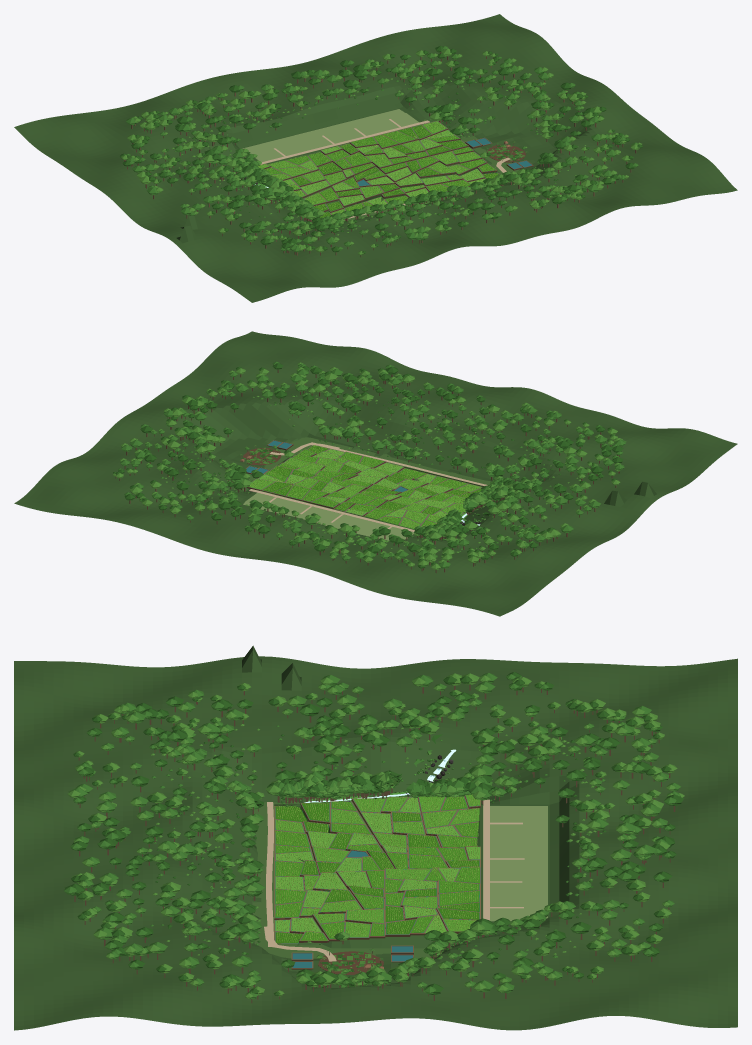
File: ENV_ModulSawah.fbx
3 views of the same model, one above another, from view 1: azimuth 30°, elevation 25°; view 2: azimuth 150°, elevation 25°; view 3: azimuth 270°, elevation 25° (orthographic). The views are drawn at different scales.
Visible parts, largest first — view 1: Bukit_Pinggir, Hutan_Bukit, Padi_Hamparan, Padi_Tegak, Lahan_Utara, Pematang_Petak, Tanah_Teras, Hutan_Batas, Sawah_Air_Petak, Tanah_Lingkungan, Jalur_Utara; view 2: Bukit_Pinggir, Hutan_Bukit, Padi_Hamparan, Padi_Tegak, Pematang_Petak, Lahan_Utara, Tanah_Lingkungan, Hutan_Batas; view 3: Bukit_Pinggir, Hutan_Bukit, Padi_Hamparan, Padi_Tegak, Lahan_Utara, Pematang_Petak, Hutan_Batas, Tanah_Lingkungan, Sawah_Air_Petak, Tanah_Teras, Jalur_Tanah, Jalur_Utara (+2 smaller).
Boxes of the visible parts, x1,y1,x2,y2 form: Bukit_Pinggir: (14,14,737,302); Hutan_Bukit: (120,46,642,256); Padi_Hamparan: (258,121,498,217); Padi_Tegak: (259,122,497,217); Lahan_Utara: (242,109,421,163); Pematang_Petak: (261,121,499,214); Tanah_Teras: (264,129,497,212); Hutan_Batas: (231,103,459,222); Sawah_Air_Petak: (273,121,496,214); Tanah_Lingkungan: (327,135,519,222); Jalur_Utara: (260,120,429,164); Bukit_Pinggir: (14,331,737,616); Hutan_Bukit: (113,361,626,572); Padi_Hamparan: (249,445,481,529); Padi_Tegak: (250,445,481,527); Pematang_Petak: (248,445,482,526); Lahan_Utara: (243,492,414,540); Tanah_Lingkungan: (247,437,491,490); Hutan_Batas: (225,468,504,539); Bukit_Pinggir: (14,645,737,1030); Hutan_Bukit: (64,672,684,1003); Padi_Hamparan: (275,794,480,943); Padi_Tegak: (276,794,478,942); Lahan_Utara: (483,806,547,921); Pematang_Petak: (274,795,480,943); Hutan_Batas: (265,764,494,937); Tanah_Lingkungan: (251,801,430,960); Sawah_Air_Petak: (275,797,480,943); Tanah_Teras: (274,796,480,942); Jalur_Tanah: (266,802,273,946); Jalur_Utara: (483,799,489,920).
Bounding box in the file's own units: 103200 × 9807 × 87600.
